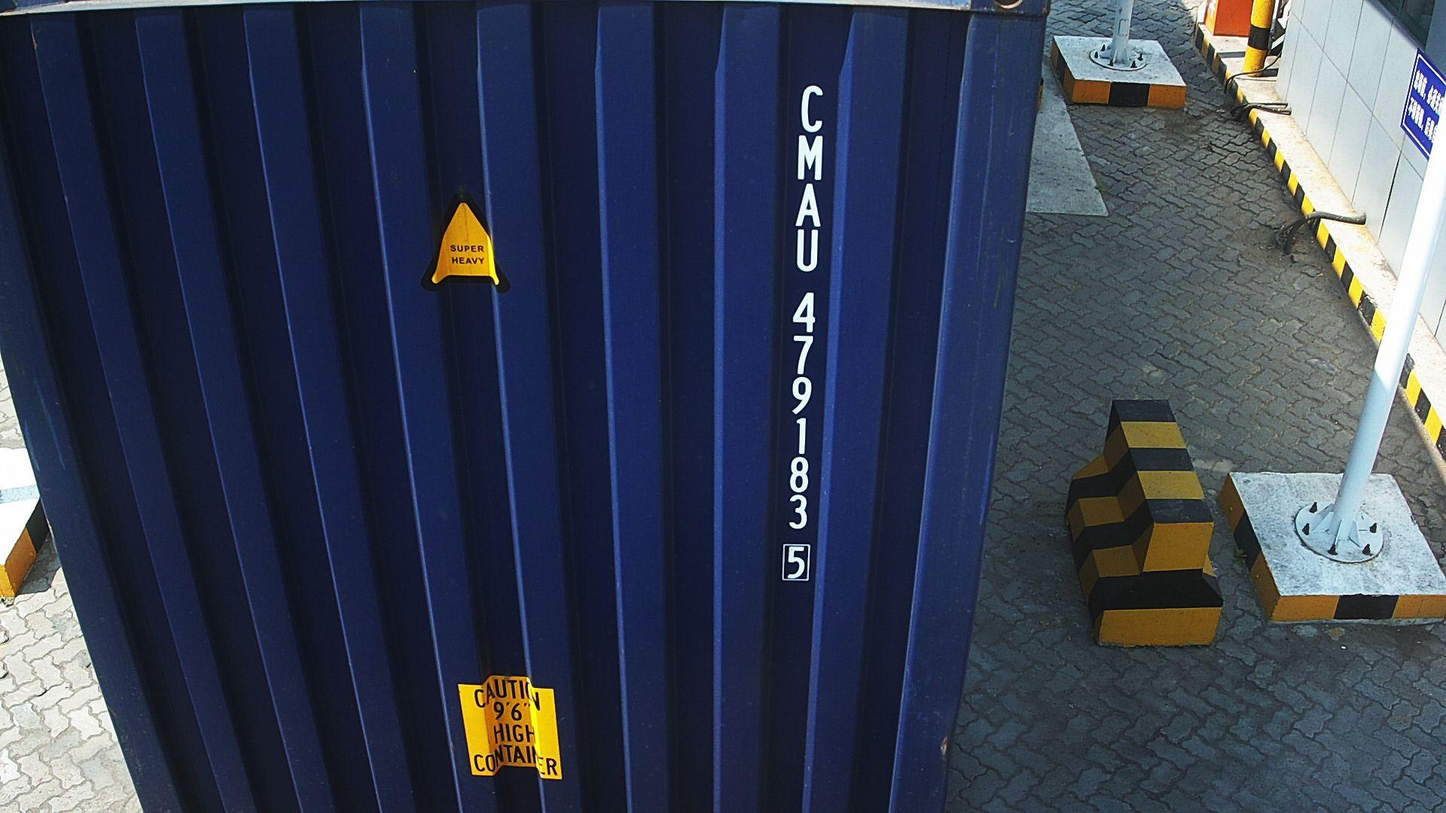container-numbers: (776, 75, 832, 585)
